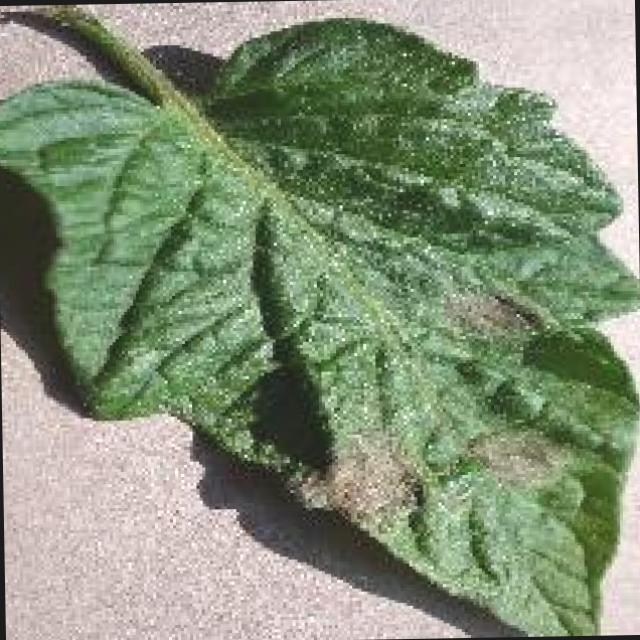leaf blight: (0, 4, 640, 636)
